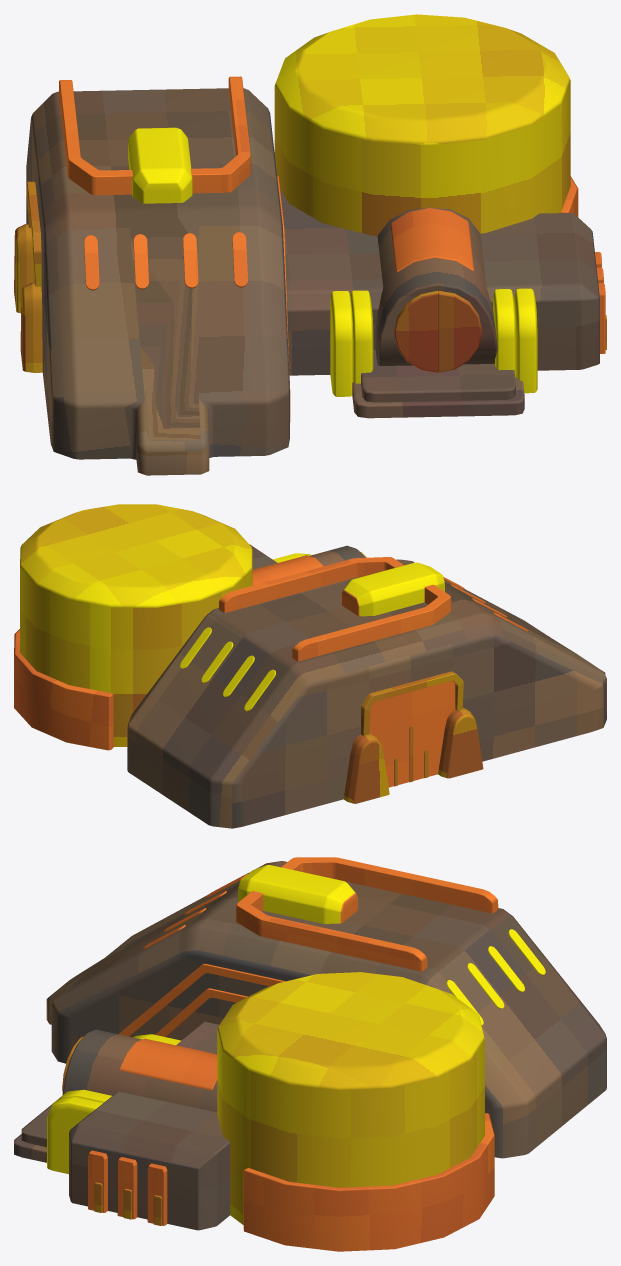
File: mars_building_production(placeholder).glb
The picture shows the model from 3 angles, top to bottom: view 1: azimuth 30°, elevation 25°; view 2: azimuth 150°, elevation 25°; view 3: azimuth 270°, elevation 25°; orthographic projection. The views are drawn at different scales.
Parts seen in each view (by area): view 1: Machine_building_plant; view 2: Machine_building_plant; view 3: Machine_building_plant.
Boxes of the visible parts, x1,y1,x2,y2 form: Machine_building_plant: (14,14,606,475); Machine_building_plant: (14,504,606,828); Machine_building_plant: (14,857,606,1251).
Size of the model in its own units: 18.2 by 5.74 by 16.85.
Materials: 1 (1 with a texture image).
